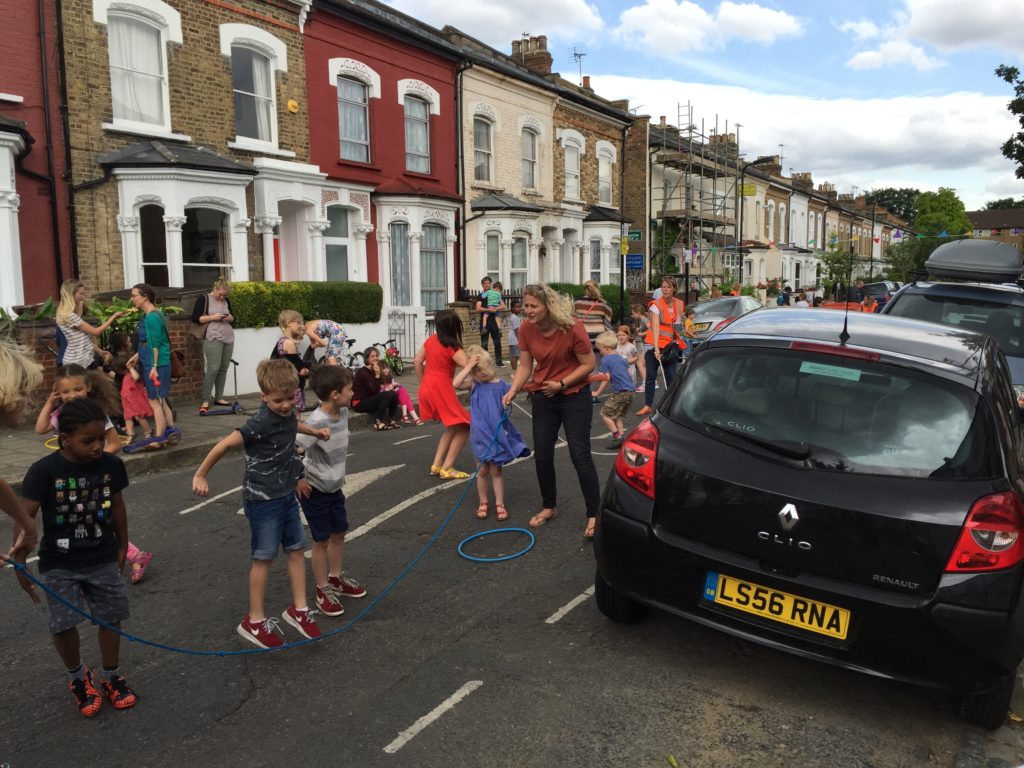Car: (600, 278, 1024, 715)
Person: (187, 345, 332, 680), (15, 409, 149, 729), (513, 273, 604, 543)
